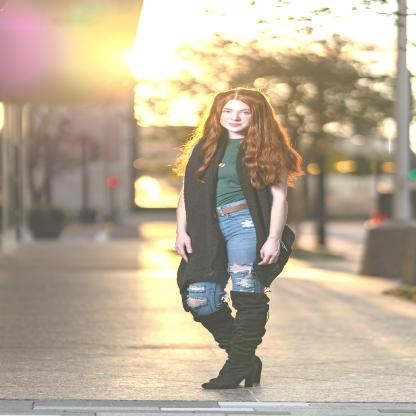jacket: (177, 137, 299, 297)
